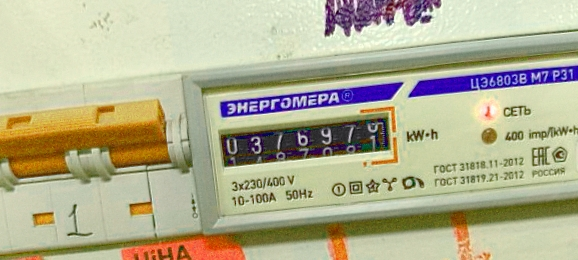0: (224, 134, 239, 155)
1: (366, 132, 379, 151)
3: (248, 133, 263, 154)
6: (294, 125, 309, 147)
7: (270, 128, 286, 151), (342, 121, 356, 144)
9: (318, 124, 332, 146)
screen: (209, 100, 405, 185)
